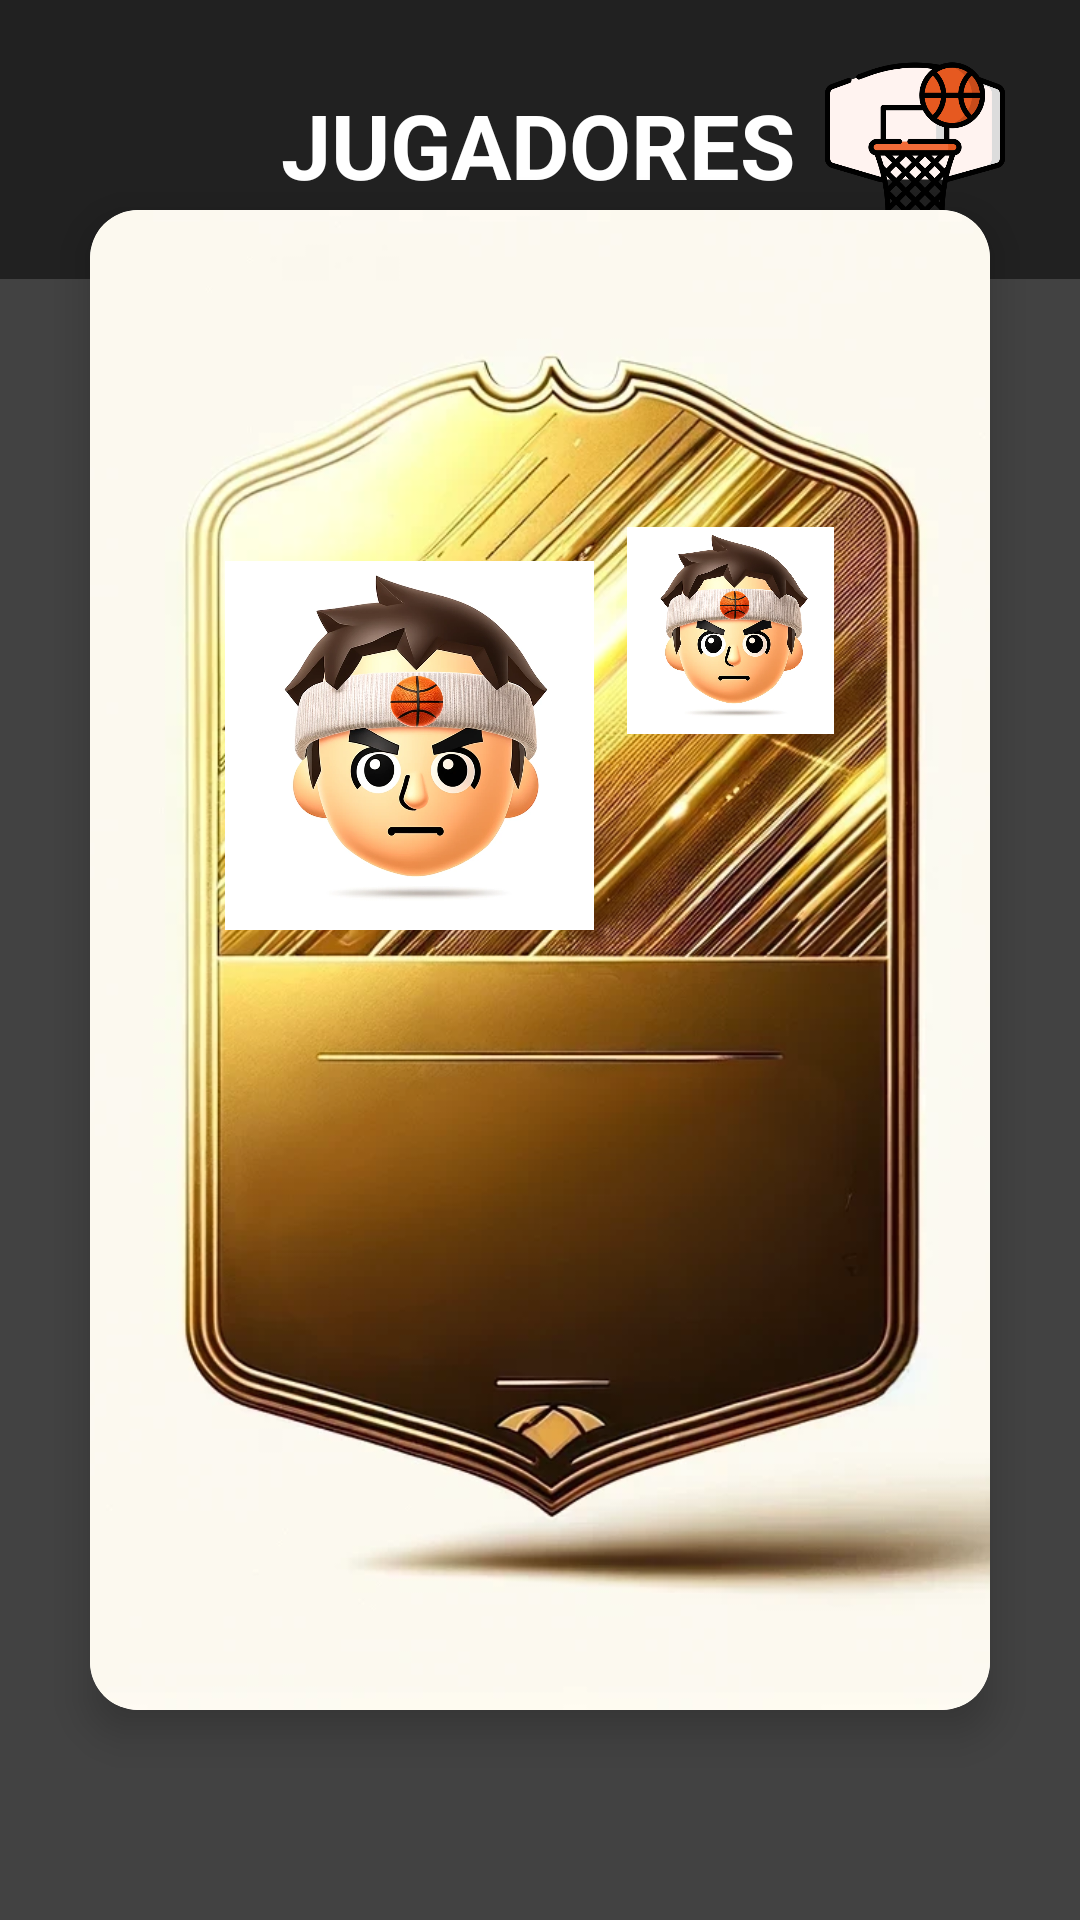

Screen size 1080w x 1920h. Icon name, then its center in pixels as (x=x, y=y):
pelota: (x=915, y=145)
